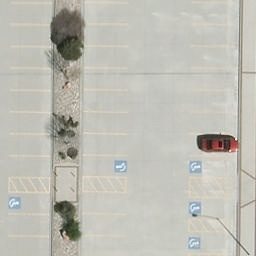car: (201, 138, 241, 154)
